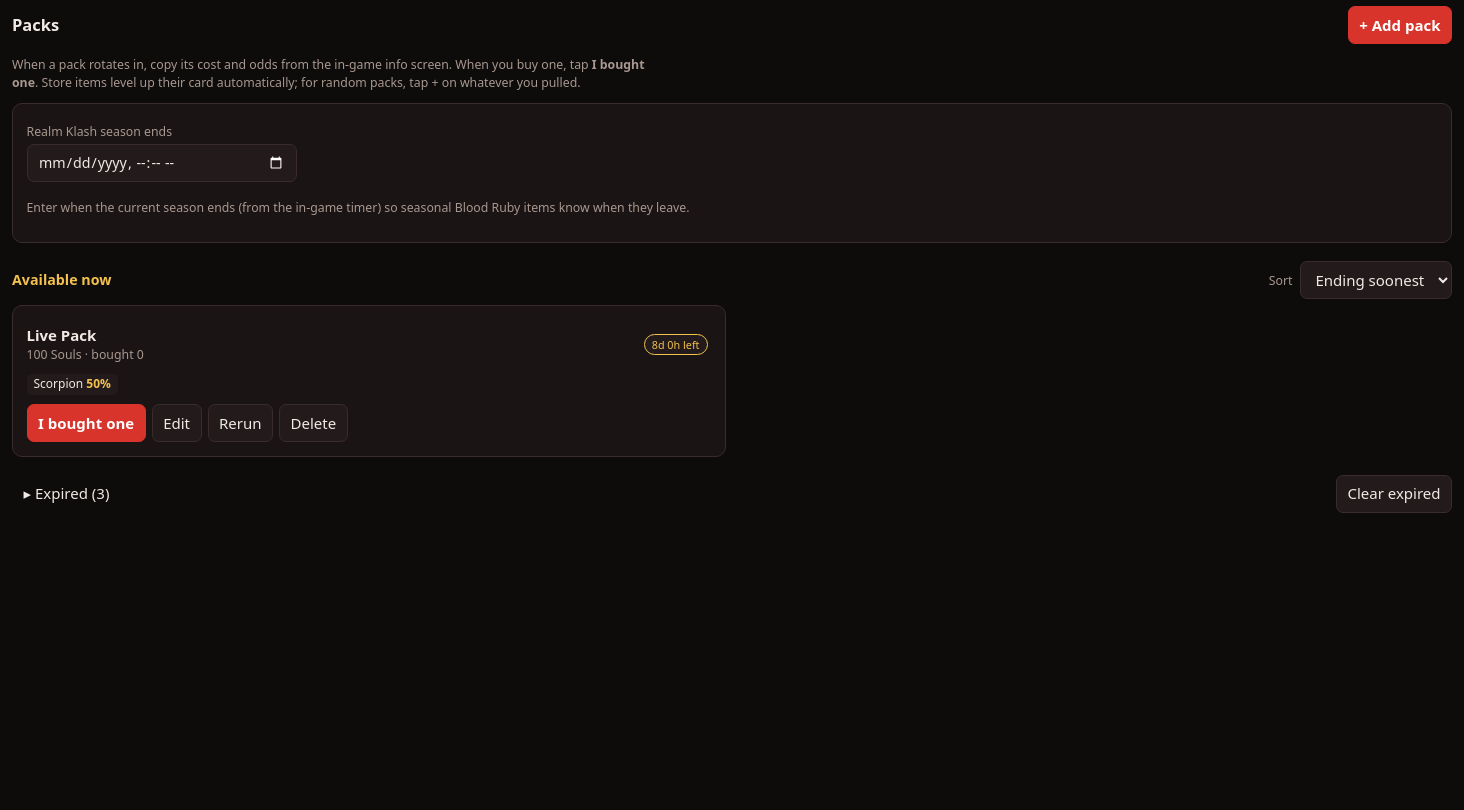
Scenario: Packs: Clear expired › clears expired packs after a second tap, keeps the Realm Klash item with its note, and offers Undo
Click the button "▸ Expired (3)" at (66,494), box x1=12 y1=475 x2=121 y2=513
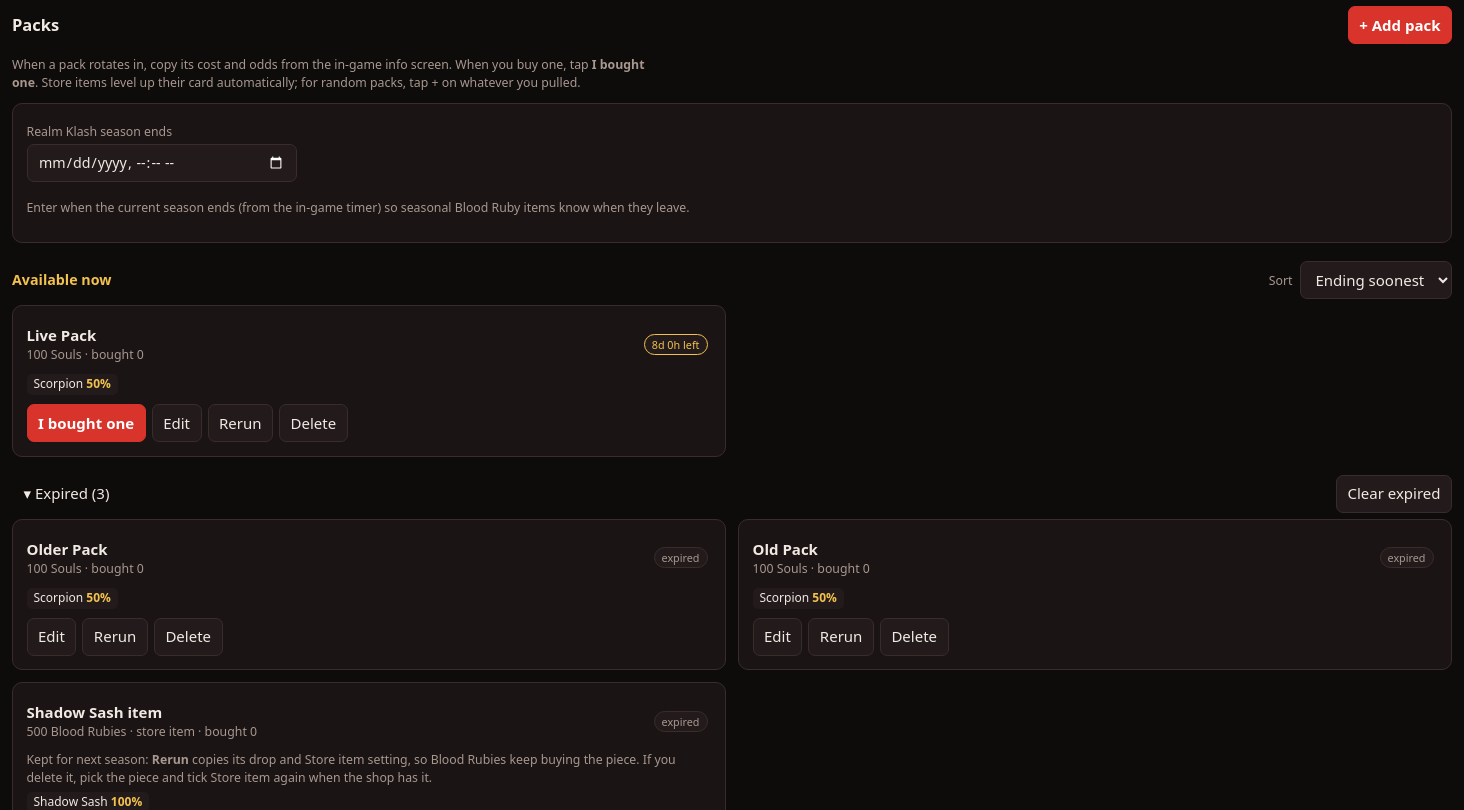
Check: the text "Kept for next season:" is shown once, box x1=26 y1=752 x2=712 y2=786
// One tap only arms it.
Click the button "Clear expired" at (1394,494), box x1=1336 y1=475 x2=1452 y2=513
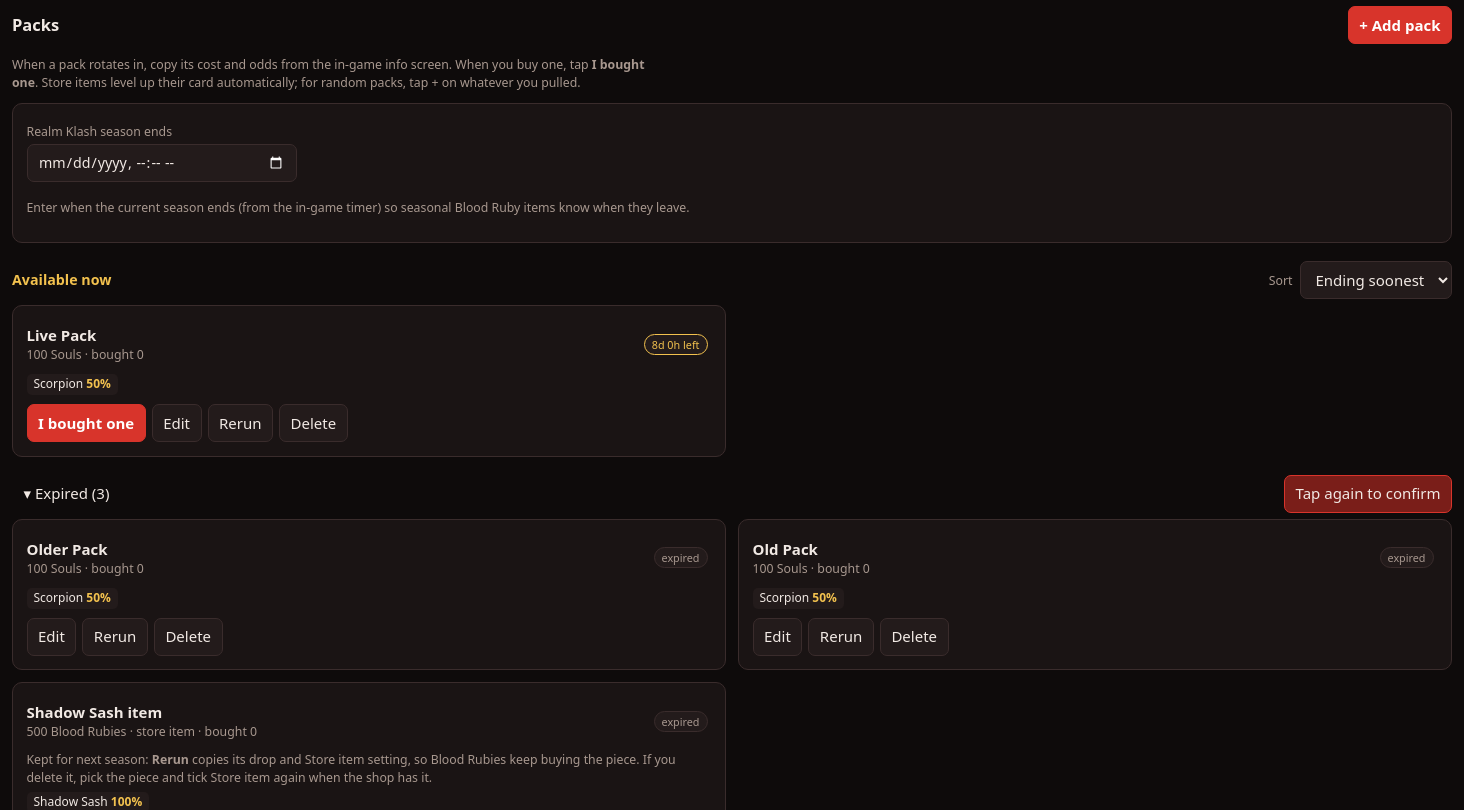
Click the button "Tap again to confirm" at (1368,494), box x1=1284 y1=475 x2=1452 y2=513
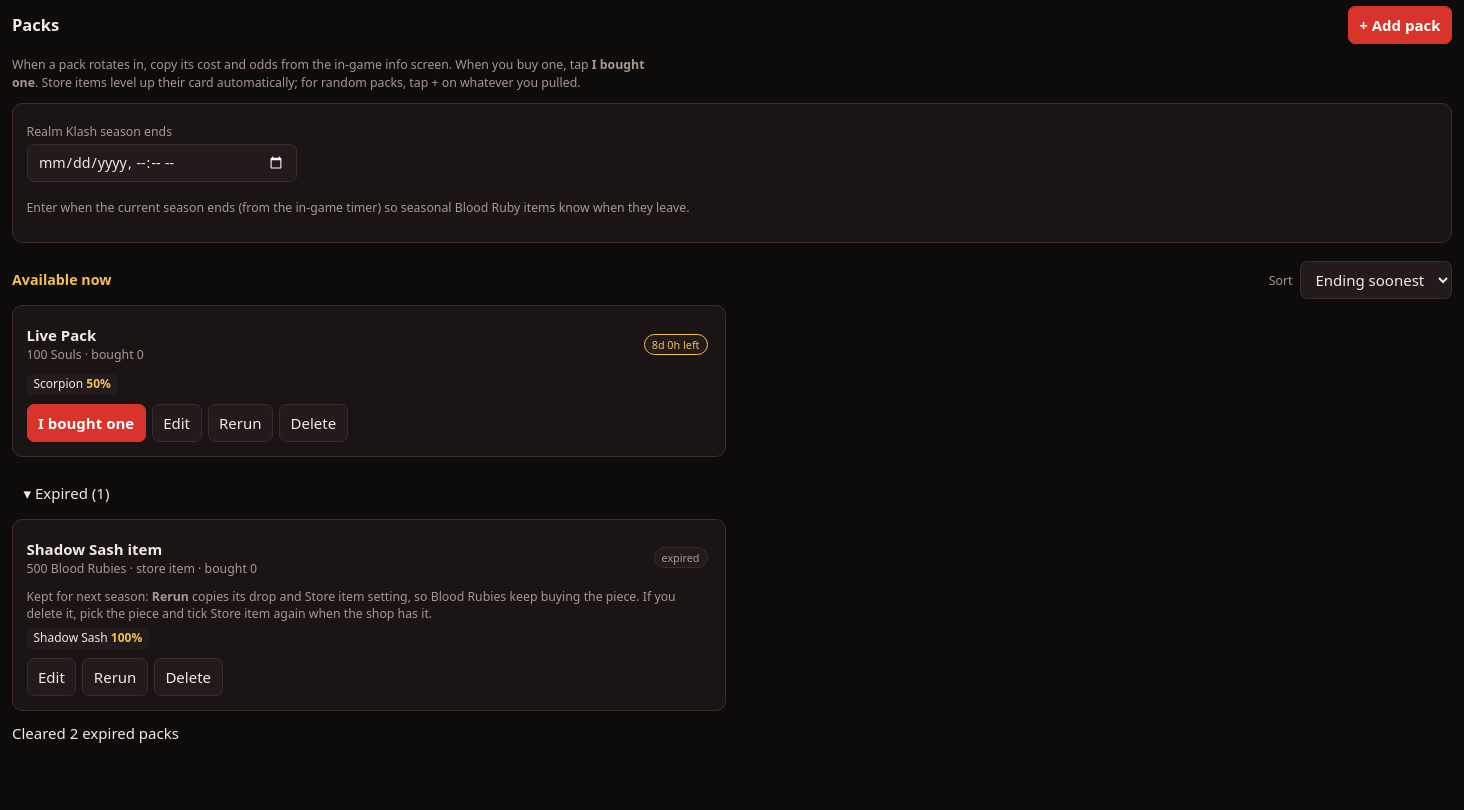
Check: the text "Kept for next season:" is shown, box x1=26 y1=588 x2=152 y2=605
Check: the text with test id "undo" reads "Cleared 2 expired packs", box x1=12 y1=723 x2=179 y2=743
Check: the button "▾ Expired (1)" is shown, box x1=12 y1=475 x2=121 y2=513
